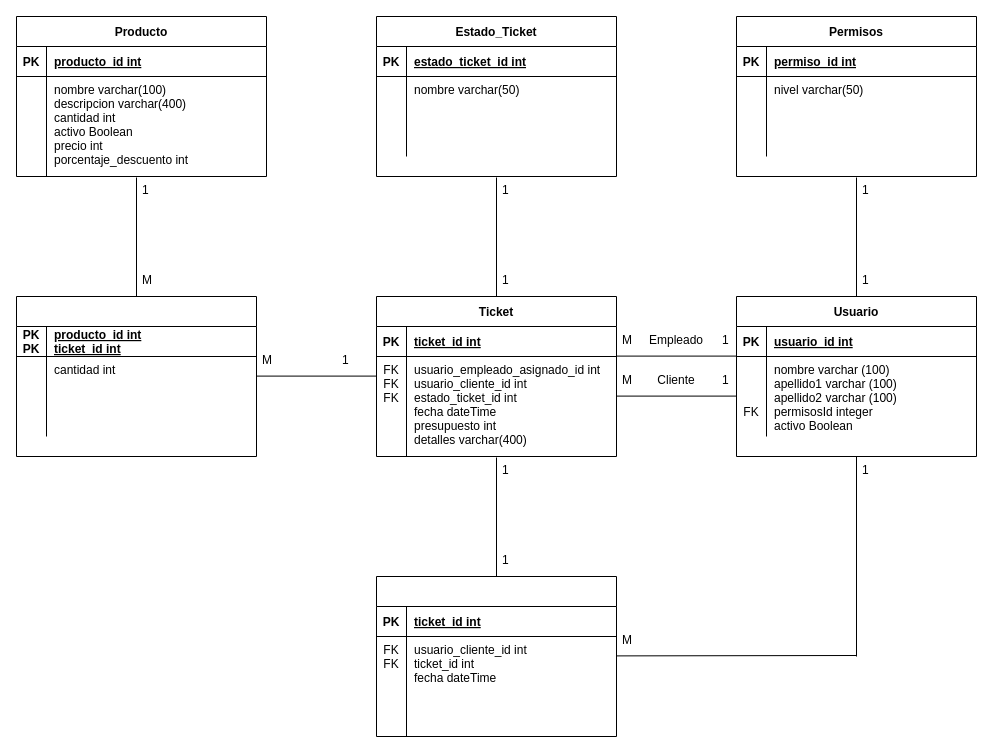
The diagram is 993 pixels wide and 753 high, and some of its shapes have lost their labels. The box of each missing label's shape, as (x1, y1, x2, y2) in pixels:
Factura: (376, 576, 616, 736)
Producto_Ticket: (16, 296, 256, 456)
